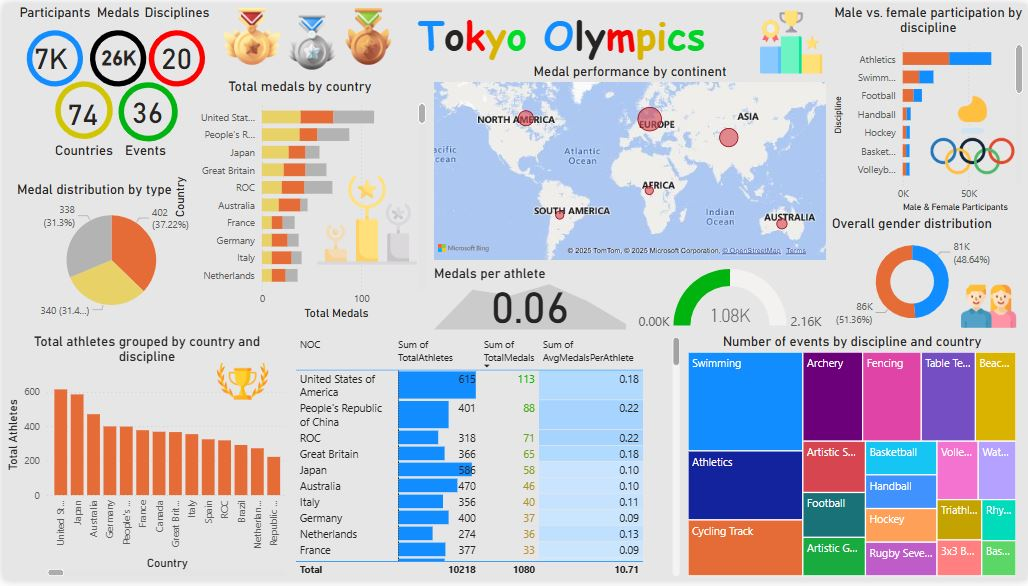

The dashboard page shown, as its layout file describes it:
{"tool":"powerbi","page":{"name":"Dashboard","canvas":[1280,720],"ordinal":0},"visuals":[{"type":"barChart","title":"Total medals by country","fields":{"Category":["ranked_countries.TeamNOC"],"Y":["Sum(ranked_countries.Gold)","Sum(ranked_countries.Bronze)","Sum(ranked_countries.Silver)"]},"box":[208.9,92,324.5,307.4],"z":0},{"type":"pieChart","title":"Medal distribution by type","fields":{"Y":["Sum(ranked_countries.Bronze)","Sum(ranked_countries.Gold)","Sum(ranked_countries.Silver)"]},"box":[12.9,221.4,245.7,178.6],"z":1000},{"type":"barChart","title":"Male vs. female participation by discipline","fields":{"Category":["event_summary.Discipline"],"Y":["Sum(event_summary.MaleParticipants)","Sum(event_summary.FemaleParticipants)"]},"box":[1034.3,0,245.7,264.3],"z":2000},{"type":"donutChart","title":"Overall gender distribution","fields":{"Y":["Sum(event_summary.FemaleParticipants)","Sum(event_summary.MaleParticipants)"]},"box":[1017.5,263.8,237.5,147.5],"z":3000},{"type":"treemap","title":"Number of events by discipline and country","fields":{"Values":["Sum(event_summary.TotalEvents)"],"Group":["event_summary.Discipline","event_summary.NOC"]},"box":[851.4,411.4,420,308.6],"z":4000},{"type":"map","title":"Medal performance by continent","fields":{"Category":["continent_performance.Continent"],"Size":["Sum(continent_performance.TotalMedalsByContinent)"]},"box":[534.3,74.3,500,251.4],"z":5000},{"type":"kpi","title":"Medals per athlete","fields":{"TrendLine":["continent_performance.Continent"],"Indicator":["Sum(continent_performance.MedalsPerAthlete)"]},"box":[534.3,325.7,250,85.7],"z":6000},{"type":"tableEx","fields":{"Values":["ranked_countries_performance.NOC","Sum(ranked_countries_performance.TotalAthletes)","Sum(ranked_countries_performance.TotalMedals)","Sum(ranked_countries_performance.AvgMedalsPerAthlete)"]},"box":[360,411.4,491.4,308.6],"z":7000},{"type":"gauge","fields":{"Y":["Sum(continent_performance.TotalMedalsByContinent)"],"TargetValue":["Sum(continent_performance.TotalAthletes)"]},"box":[784.3,325.7,250,85.7],"z":8000},{"type":"clusteredColumnChart","title":"Total athletes grouped by country and discipline","fields":{"Category":["athletes_with_medals.NOC","athletes_with_medals.Discipline"],"Y":["Count(athletes_with_medals.Name)"]},"box":[0,411.4,360,308.6],"z":9000},{"type":"donutChart","title":"Participants","fields":{"Y":["Sum(discipline_gender_medals.TotalParticipants)"]},"box":[0,0,130,117.1],"z":10000},{"type":"donutChart","title":"Medals","fields":{"Y":["Sum(discipline_gender_medals.TotalMedals)"]},"box":[87.1,0,112.9,117.1],"z":11000},{"type":"card","fields":{"Values":["Sum(discipline_gender_medals.TotalParticipants)"]},"box":[32.9,38.6,54.3,54.3],"z":12000},{"type":"card","fields":{"Values":["Sum(discipline_gender_medals.TotalMedals)"]},"box":[117.1,38.6,54.3,54.3],"z":13000},{"type":"donutChart","title":"Disciplines","fields":{"Y":["Count(discipline_gender_medals.Discipline)"]},"box":[157.1,0,120,117.1],"z":14000},{"type":"card","fields":{"Values":["Count(discipline_gender_medals.Discipline)"]},"box":[190,38.6,54.3,54.3],"z":15000},{"type":"donutChart","title":"Countries","fields":{"Y":["CountNonNull(discipline_medals.NOC)"]},"box":[51.4,81.4,100,102.9],"z":16000},{"type":"card","fields":{"Values":["Count(discipline_medals.NOC)"]},"box":[72.9,108.6,54.3,54.3],"z":17000},{"type":"donutChart","title":"Events","fields":{"Y":["CountNonNull(distinct_events.Event)"]},"box":[130,81.4,102.9,107.1],"z":18000},{"type":"card","fields":{"Values":["Count(distinct_events.Event)"]},"box":[154.3,105.7,54.3,54.3],"z":19000},{"type":"textbox","box":[60,167.1,97.1,32.9],"z":20000},{"type":"textbox","box":[147.1,167.1,85.7,32.9],"z":21000},{"type":"textbox","box":[487.4,0,421.8,81.5],"z":21001},{"type":"image","box":[262.8,0,97.2,81.5],"z":21004},{"type":"image","box":[346.9,0,80.1,93.3],"z":21005},{"type":"image","box":[416.5,0,81.5,81.5],"z":21006},{"type":"image","box":[1192.5,326.2,78.8,102.5],"z":21007},{"type":"image","box":[1152.5,106.2,118.8,115],"z":21008},{"type":"image","box":[262.5,412.5,73.8,118.8],"z":21009},{"type":"image","box":[908.8,1.2,152.5,92.5],"z":21010},{"type":"image","box":[387.5,188.8,135,163.8],"z":21011}]}

Visuals, with their boxes in screenshot pixels (x1, y1, x2, y2), scaled from the page's 1280x720 canvas onto the 1028x586 screenshot:
"Total medals by country" barChart: select_region(168, 75, 428, 325)
"Medal distribution by type" pieChart: select_region(10, 180, 208, 326)
"Male vs. female participation by discipline" barChart: select_region(831, 0, 1027, 215)
"Overall gender distribution" donutChart: select_region(817, 215, 1008, 335)
"Number of events by discipline and country" treemap: select_region(684, 335, 1021, 585)
"Medal performance by continent" map: select_region(429, 60, 831, 265)
"Medals per athlete" kpi: select_region(429, 265, 630, 335)
tableEx - ranked_countries_performance.NOC x Sum(ranked_countries_performance.TotalAthletes): select_region(289, 335, 684, 585)
gauge - Sum(continent_performance.TotalMedalsByContinent) x Sum(continent_performance.TotalAthletes): select_region(630, 265, 831, 335)
"Total athletes grouped by country and discipline" clusteredColumnChart: select_region(0, 335, 289, 585)
"Participants" donutChart: select_region(0, 0, 104, 95)
"Medals" donutChart: select_region(70, 0, 161, 95)
card - Sum(discipline_gender_medals.TotalParticipants): select_region(26, 31, 70, 76)
card - Sum(discipline_gender_medals.TotalMedals): select_region(94, 31, 138, 76)
"Disciplines" donutChart: select_region(126, 0, 223, 95)
card - Count(discipline_gender_medals.Discipline): select_region(153, 31, 196, 76)
"Countries" donutChart: select_region(41, 66, 122, 150)
card - Count(discipline_medals.NOC): select_region(59, 88, 102, 133)
"Events" donutChart: select_region(104, 66, 187, 153)
card - Count(distinct_events.Event): select_region(124, 86, 168, 130)
textbox: select_region(48, 136, 126, 163)
textbox: select_region(118, 136, 187, 163)
textbox: select_region(391, 0, 730, 66)
image: select_region(211, 0, 289, 66)
image: select_region(279, 0, 343, 76)
image: select_region(335, 0, 400, 66)
image: select_region(958, 265, 1021, 349)
image: select_region(926, 86, 1021, 180)
image: select_region(211, 336, 270, 432)
image: select_region(730, 1, 852, 76)
image: select_region(311, 154, 420, 287)
